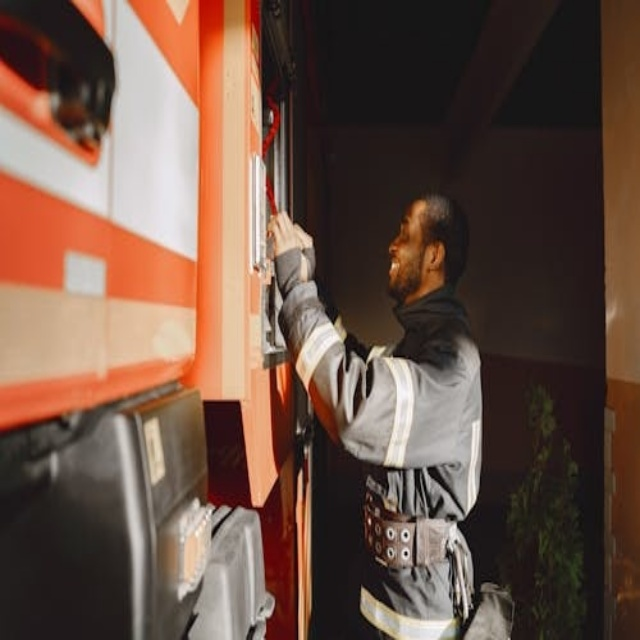Sin_gafas: (396, 213, 422, 244)
Sin_guantes: (267, 213, 314, 285)
Sin_mascara: (387, 248, 407, 284)
